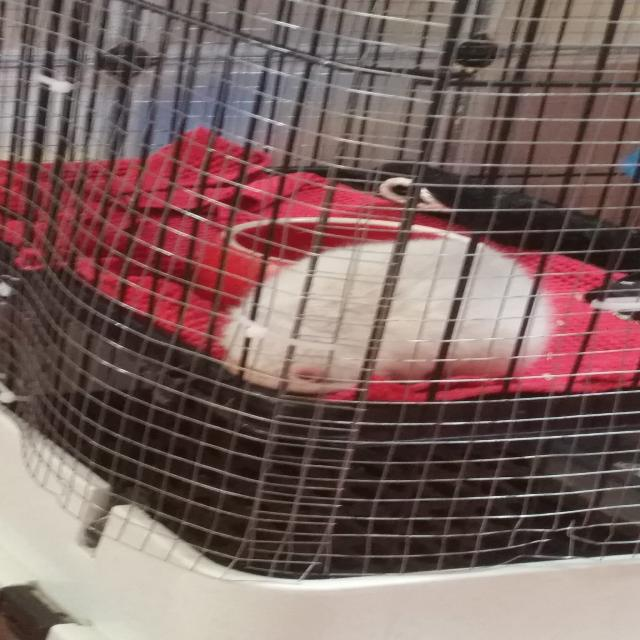rat: (221, 233, 554, 396)
